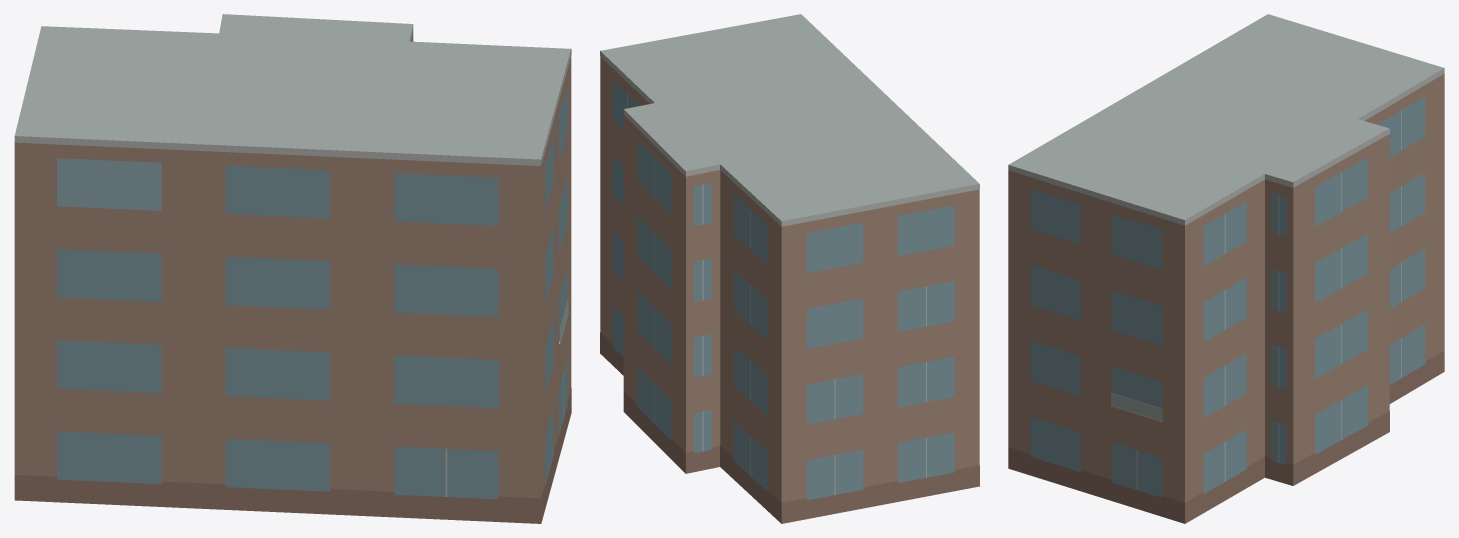
The model's file is survey-upis-32469457.glb.
The picture shows the model from 3 angles, left to right: view 1: azimuth 30°, elevation 25°; view 2: azimuth 150°, elevation 25°; view 3: azimuth 270°, elevation 25°; orthographic projection. The views are drawn at different scales.
Visible parts, largest first — view 1: survey-upis-32469457.tmp; view 2: survey-upis-32469457.tmp; view 3: survey-upis-32469457.tmp.
Boxes of the visible parts, x1,y1,x2,y2 form: survey-upis-32469457.tmp: (14, 14, 571, 523); survey-upis-32469457.tmp: (600, 14, 979, 523); survey-upis-32469457.tmp: (1008, 14, 1444, 523).
Size of the model in its own units: 19.59 by 13.45 by 17.52.
